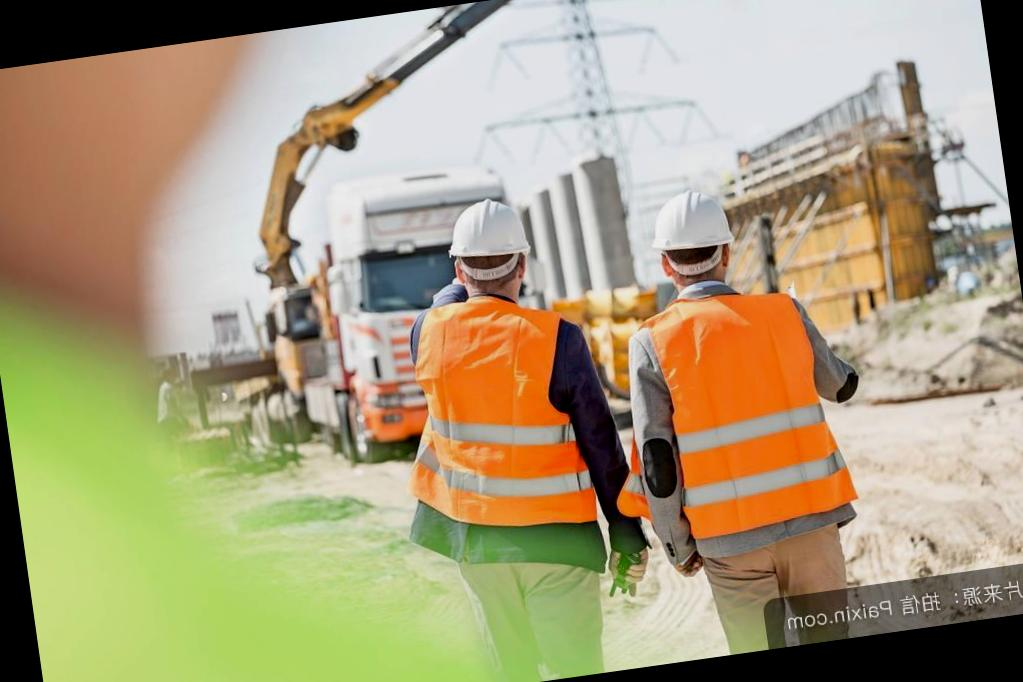helmet: (434, 195, 536, 270), (646, 183, 740, 256)
person: (373, 182, 663, 682), (598, 169, 860, 622)
